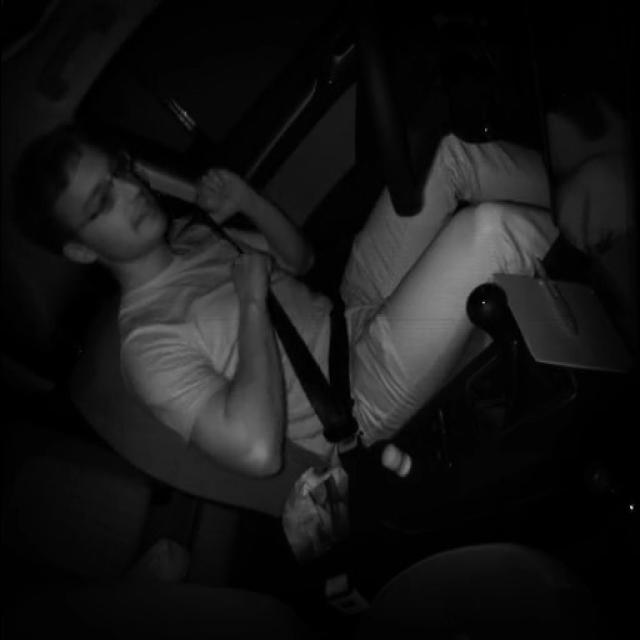pen: (530, 252, 582, 334)
